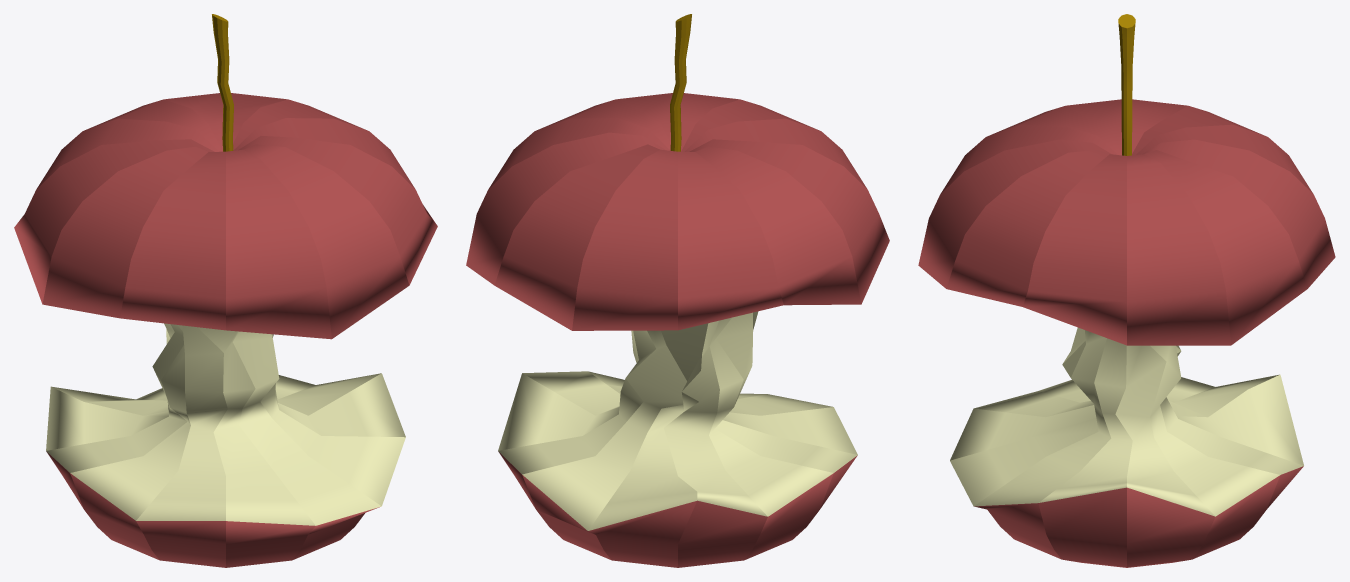
Rendered from Apple.fbx.
The picture shows the model from 3 angles, left to right: view 1: azimuth 30°, elevation 25°; view 2: azimuth 150°, elevation 25°; view 3: azimuth 270°, elevation 25°; orthographic projection.
Parts seen in each view (by area): view 1: pSphere1, pCylinder12; view 2: pSphere1, pCylinder12; view 3: pSphere1, pCylinder12.
Part boxes in pixels (<box>): pSphere1: <box>14,93,437,567</box>; pCylinder12: <box>212,14,233,151</box>; pSphere1: <box>466,93,889,567</box>; pCylinder12: <box>670,14,691,151</box>; pSphere1: <box>918,99,1335,567</box>; pCylinder12: <box>1118,14,1135,155</box>.
Bounding box in the file's own units: 4.46 × 6.01 × 4.46.
